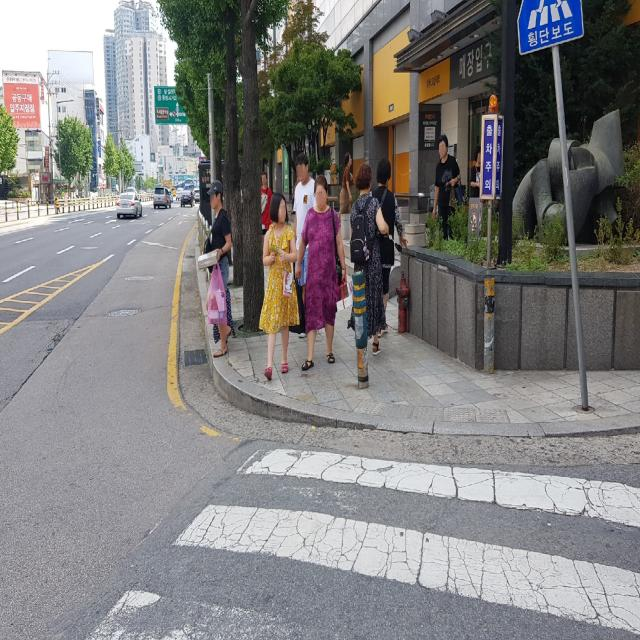횡단보도: (82, 445, 640, 639)
